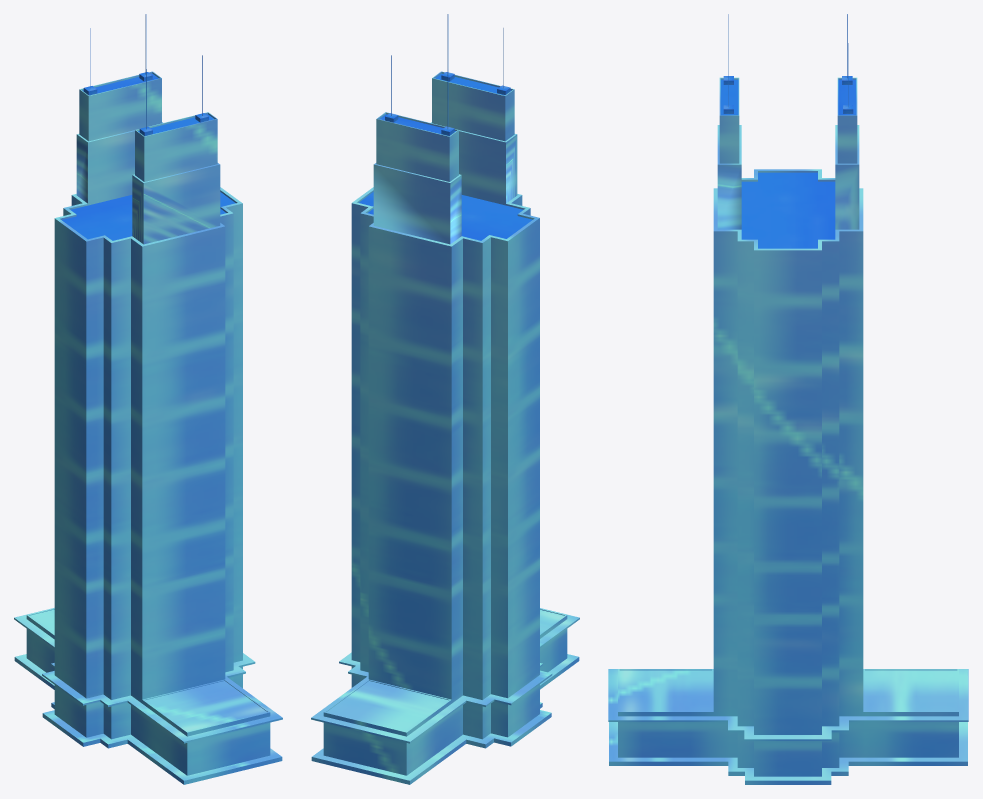
Rendered from bzjz.gltf.
The picture shows the model from 3 angles, left to right: view 1: azimuth 30°, elevation 25°; view 2: azimuth 150°, elevation 25°; view 3: azimuth 270°, elevation 25°; orthographic projection. The views are drawn at different scales.
Visible parts, largest first — view 1: 立方体_8.001; view 2: 立方体_8.001; view 3: 立方体_8.001.
Boxes of the visible parts, x1,y1,x2,y2 form: 立方体_8.001: [14, 14, 282, 784]; 立方体_8.001: [311, 14, 579, 784]; 立方体_8.001: [608, 14, 968, 784].
Size of the model in its own units: 28.99 by 108 by 49.5.
Materials: 4 (4 with a texture image).
